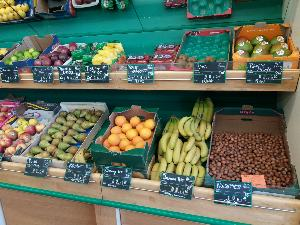apple: (0, 105, 48, 155)
banana: (146, 101, 220, 183)
kiwi: (170, 28, 234, 80)
lime: (0, 31, 50, 71)
mango: (232, 24, 300, 70)
orange: (95, 112, 157, 174)
pear: (31, 103, 101, 170)
